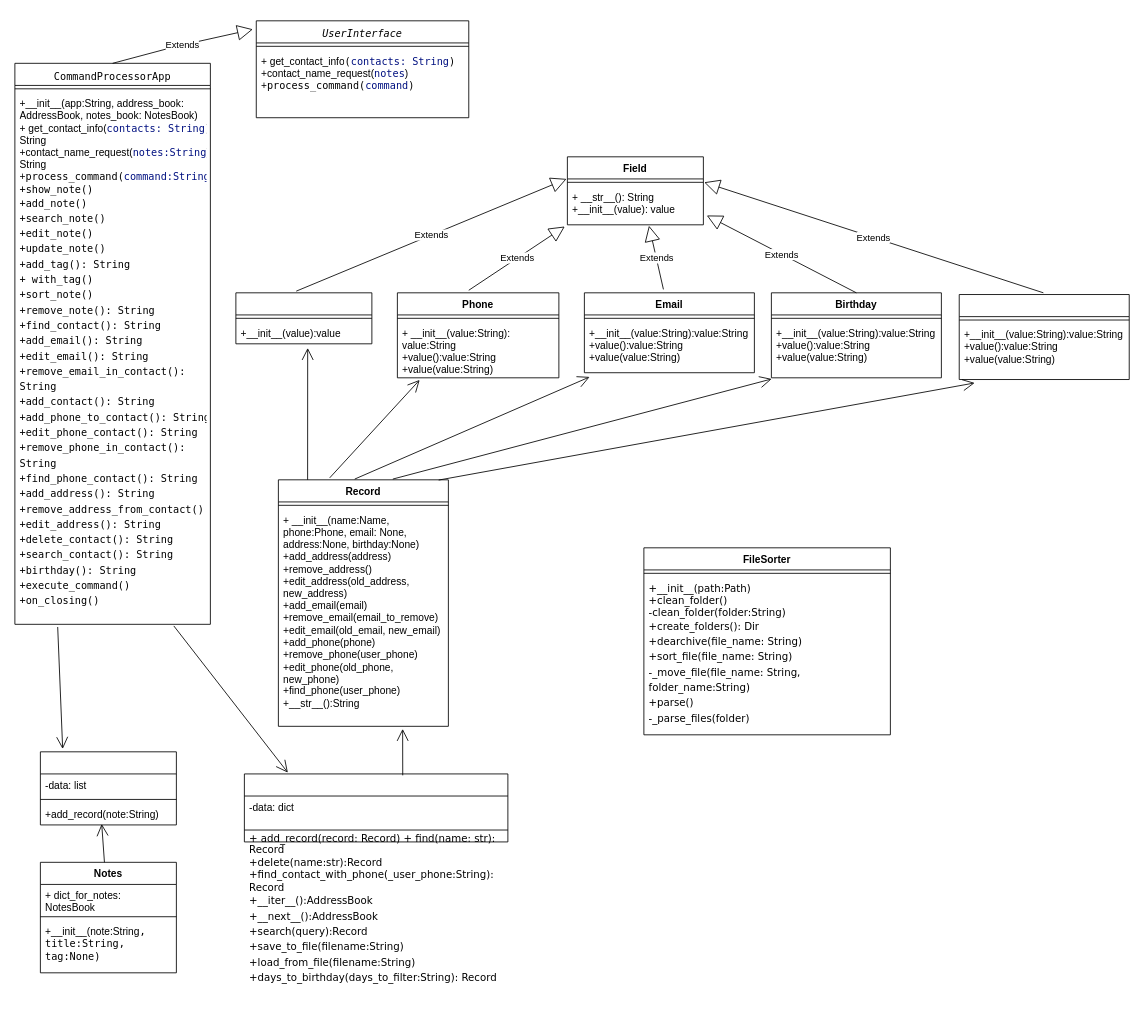
The diagram is 1144 pixels wide and 1026 high, and some of its shapes have lost their labels. The shapes that lost their labels are listed below. From the top down, each one's box as (x1, y1, x2, y2) in pixels, then its label:
(235, 292, 372, 344): Name
(958, 294, 1129, 380): Address
(40, 751, 176, 825): NotesBook
(244, 773, 508, 842): AddressBook
